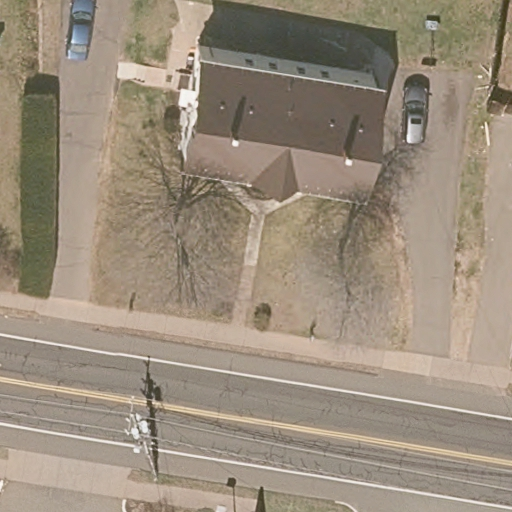DT: (124, 402, 159, 482)
